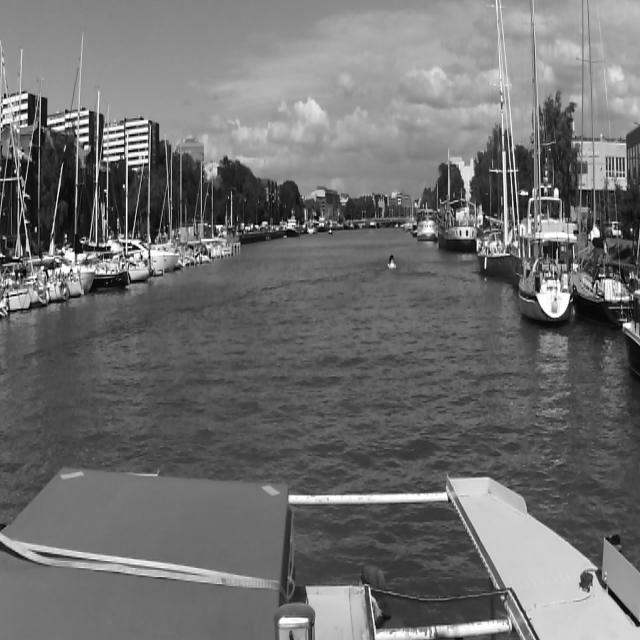ship: (572, 0, 634, 332), (516, 0, 576, 331), (474, 0, 523, 287), (436, 152, 480, 250), (416, 201, 436, 242), (284, 207, 300, 239), (386, 250, 398, 276), (318, 217, 324, 231), (328, 228, 332, 236)
